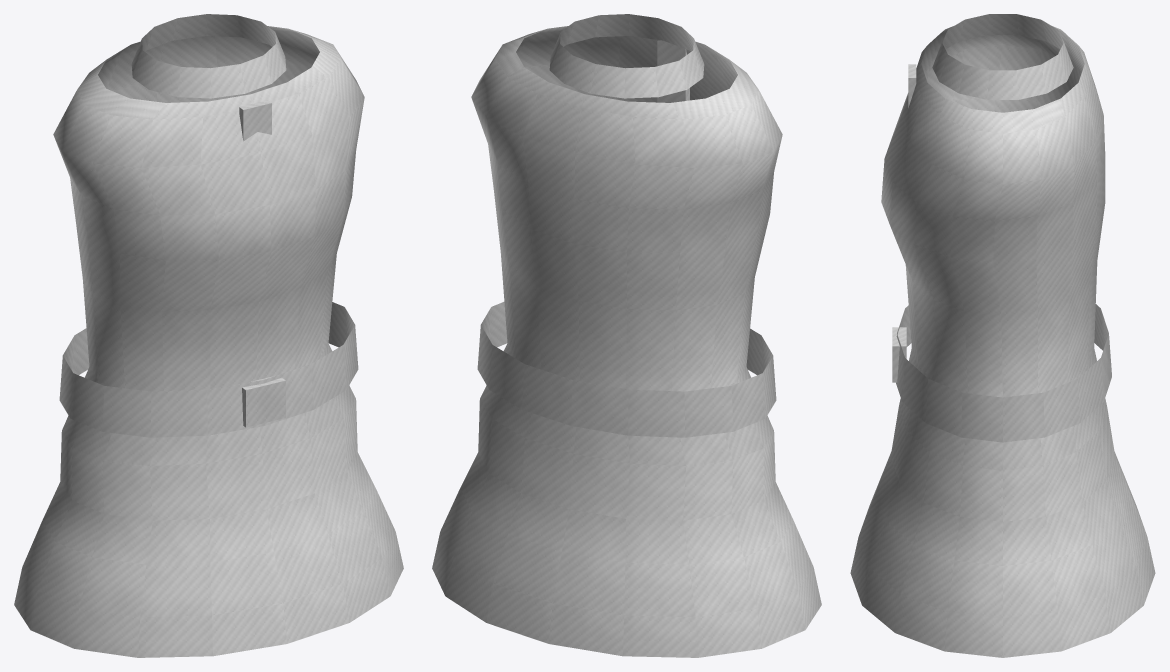
Rendered from shirt_tunic_torso_f.glb.
The picture shows the model from 3 angles, left to right: view 1: azimuth 30°, elevation 25°; view 2: azimuth 150°, elevation 25°; view 3: azimuth 270°, elevation 25°; orthographic projection. The views are drawn at different scales.
Visible parts, largest first — view 1: shirt_tunic_torso_f; view 2: shirt_tunic_torso_f; view 3: shirt_tunic_torso_f.
Part boxes in pixels (left/top/right/bottom): shirt_tunic_torso_f: left=14, top=14, right=403, bottom=657; shirt_tunic_torso_f: left=432, top=14, right=821, bottom=657; shirt_tunic_torso_f: left=850, top=14, right=1155, bottom=657.
Bounding box in the file's own units: 0.5 × 0.73 × 0.38.
Materials: 1 (1 with a texture image).
